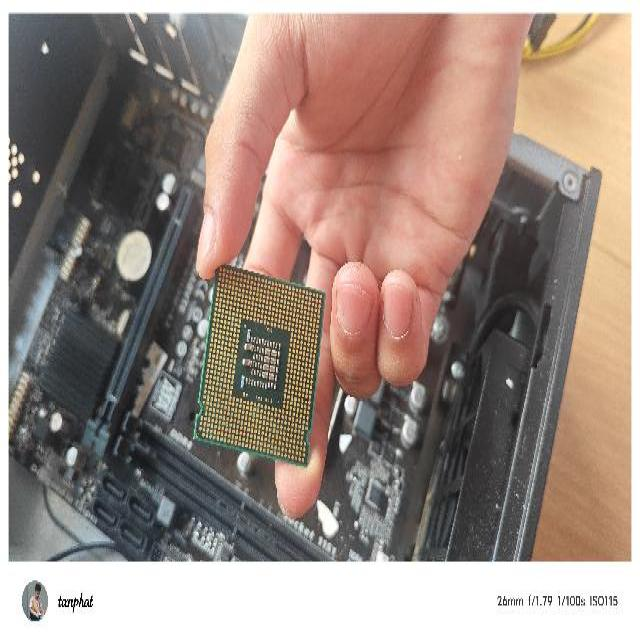CPU: (193, 263, 327, 468)
